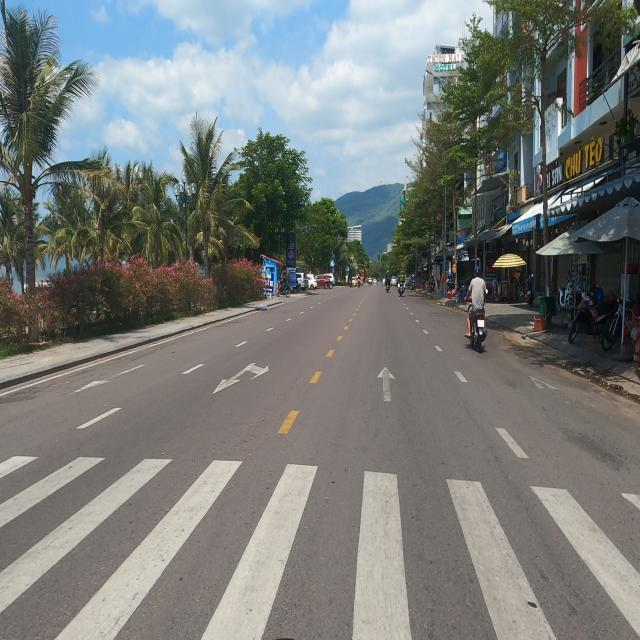walk-crossing: (1, 467, 640, 640)
